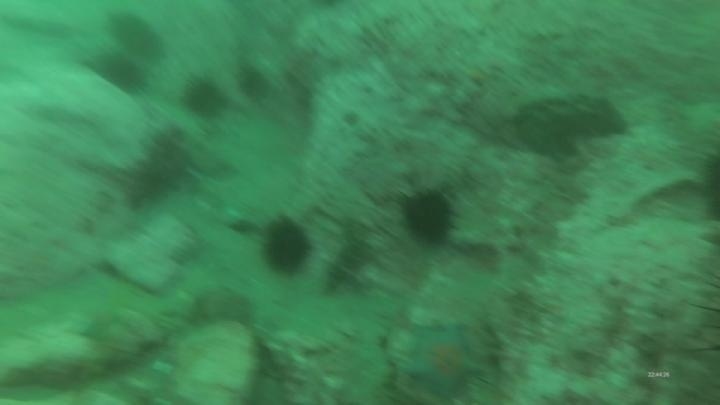echinus: (121, 125, 197, 211), (397, 185, 460, 248), (258, 214, 315, 279), (106, 10, 166, 61), (93, 51, 150, 96), (180, 75, 229, 122), (695, 149, 720, 224), (235, 63, 273, 104)
starfish: (400, 321, 487, 402)
